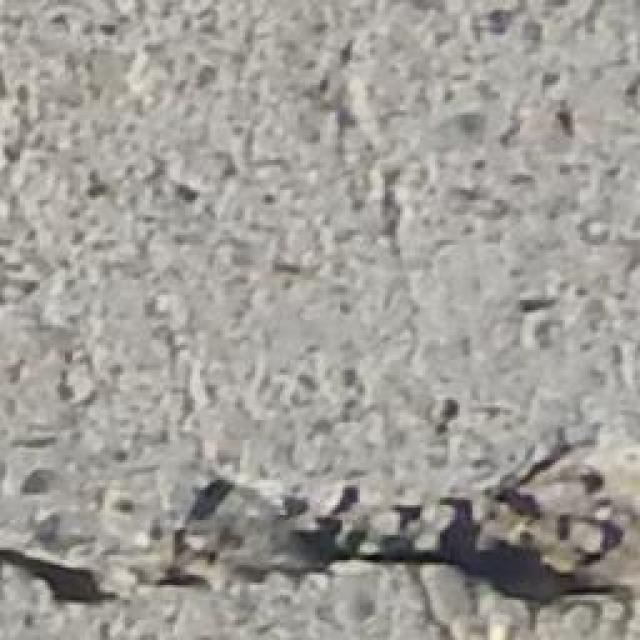concrete-crack: (1, 431, 640, 634)
